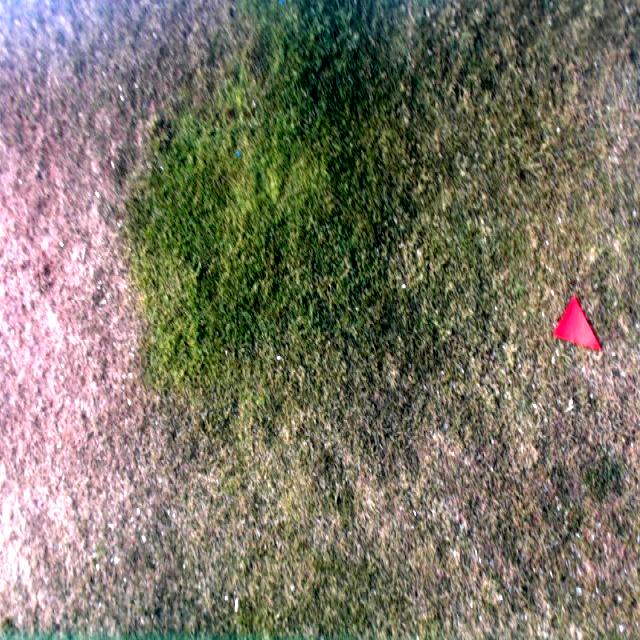red_triangle: (554, 296, 604, 355)
